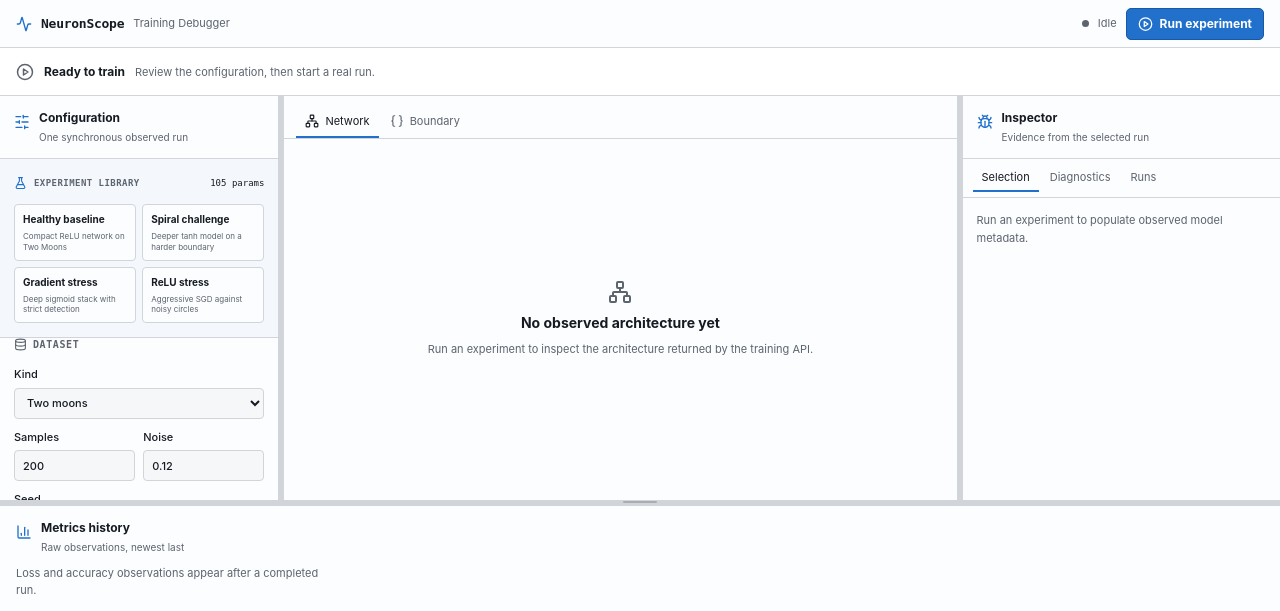
Test case: App › shows API failures as an alert
Click the button "Run experiment": [1195, 24] box [1126,8,1264,40]
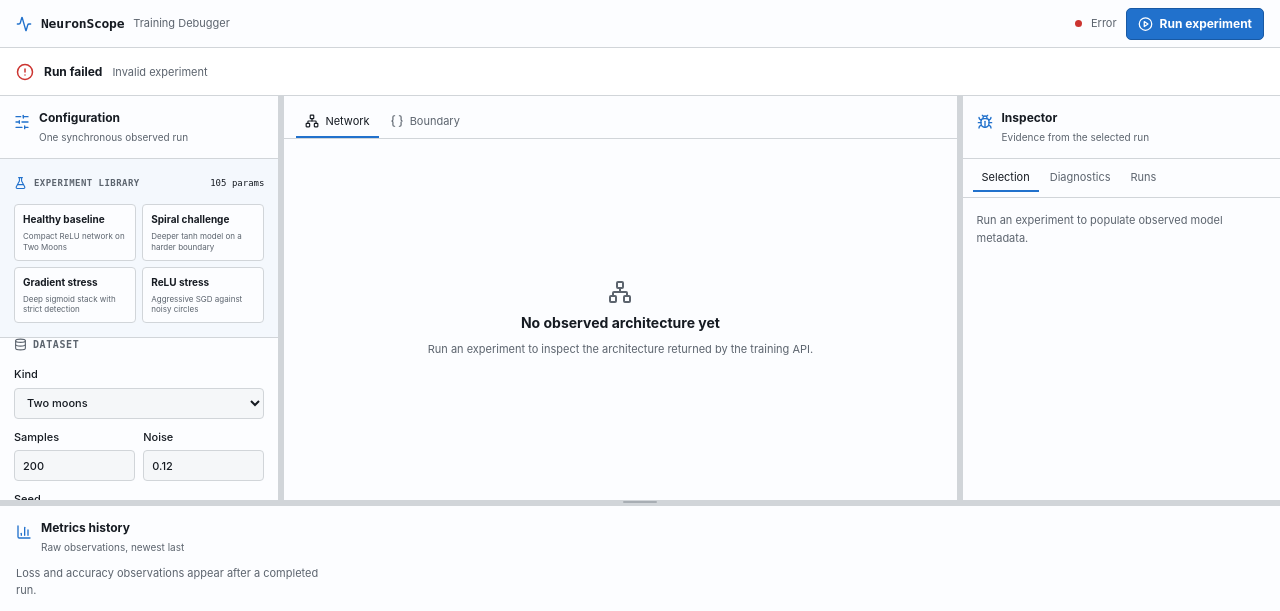
Check: the message shows "Invalid experiment", box [112,64,208,78]
Replace the text in the number field labelled "Samples" with "41": [75, 466] box [14,450,135,481]
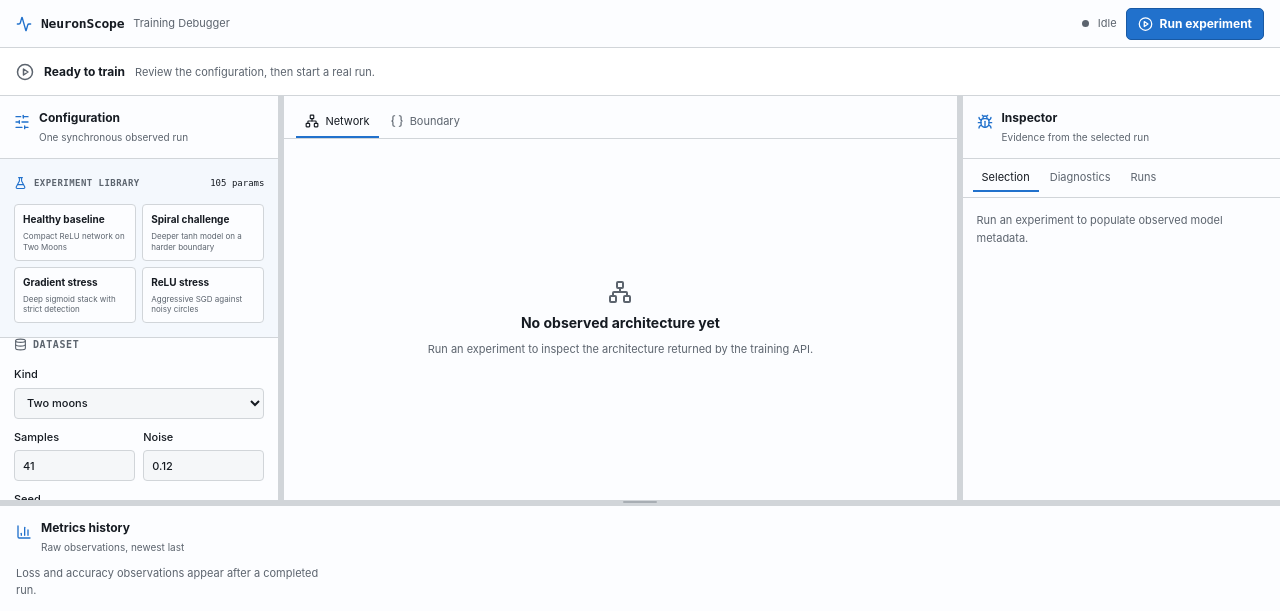
Check: the text "Ready to train" is shown, box [44,62,125,80]
